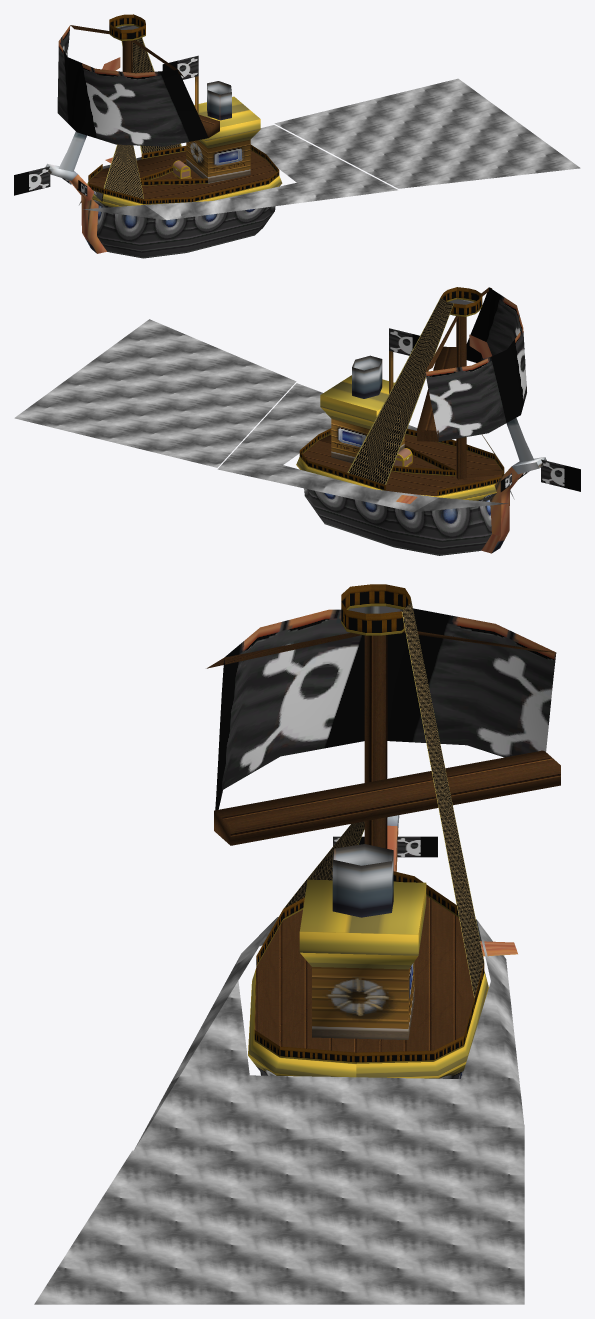
3 views of the same model, one above another, from view 1: azimuth 30°, elevation 25°; view 2: azimuth 150°, elevation 25°; view 3: azimuth 270°, elevation 25° (orthographic). The views are drawn at different scales.
Parts seen in each view (by area): view 1: course_model_SKP__Mist.001, course_model_SKP__PirateFlag.001, course_model_SKP__ShipBottom.001, course_model_SKP__Ship.001, course_model_SKP__Road.003, course_model_SKP__Rail.001, course_model_SKP__mat1.001; view 2: course_model_SKP__Mist.001, course_model_SKP__PirateFlag.001, course_model_SKP__ShipBottom.001, course_model_SKP__Road.003, course_model_SKP__mat1.001, course_model_SKP__Ship.001, course_model_SKP__Rail.001; view 3: course_model_SKP__Mist.001, course_model_SKP__PirateFlag.001, course_model_SKP__Road.003, course_model_SKP__ShipBottom.001, course_model_SKP__Ship.001, course_model_SKP__Rail.001, course_model_SKP__mat1.001.
Part boxes in pixels (left/top/right/bottom): course_model_SKP__Mist.001: left=79, top=78, right=580, bottom=220; course_model_SKP__PirateFlag.001: left=14, top=25, right=208, bottom=196; course_model_SKP__ShipBottom.001: left=87, top=25, right=282, bottom=258; course_model_SKP__Ship.001: left=45, top=57, right=250, bottom=253; course_model_SKP__Road.003: left=70, top=25, right=276, bottom=198; course_model_SKP__Rail.001: left=88, top=14, right=279, bottom=204; course_model_SKP__mat1.001: left=104, top=37, right=181, bottom=198; course_model_SKP__Mist.001: left=14, top=319, right=514, bottom=512; course_model_SKP__PirateFlag.001: left=389, top=287, right=580, bottom=491; course_model_SKP__ShipBottom.001: left=296, top=299, right=496, bottom=555; course_model_SKP__Road.003: left=303, top=287, right=502, bottom=496; course_model_SKP__mat1.001: left=347, top=298, right=502, bottom=484; course_model_SKP__Ship.001: left=331, top=334, right=546, bottom=553; course_model_SKP__Rail.001: left=299, top=287, right=504, bottom=496; course_model_SKP__Mist.001: left=34, top=917, right=524, bottom=1304; course_model_SKP__PirateFlag.001: left=215, top=608, right=556, bottom=857; course_model_SKP__Road.003: left=206, top=630, right=560, bottom=1052; course_model_SKP__ShipBottom.001: left=248, top=606, right=488, bottom=1078; course_model_SKP__Ship.001: left=312, top=815, right=517, bottom=1039; course_model_SKP__Rail.001: left=254, top=584, right=484, bottom=1063; course_model_SKP__mat1.001: left=283, top=598, right=484, bottom=997.
Size of what is drawn, in the model's own units: 106860 by 47339 by 50907.
13 materials, 13 textured.
